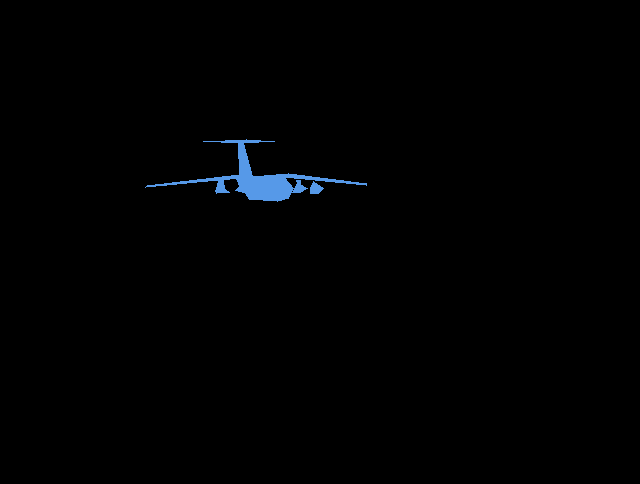Airplane: (145, 139, 367, 201)
